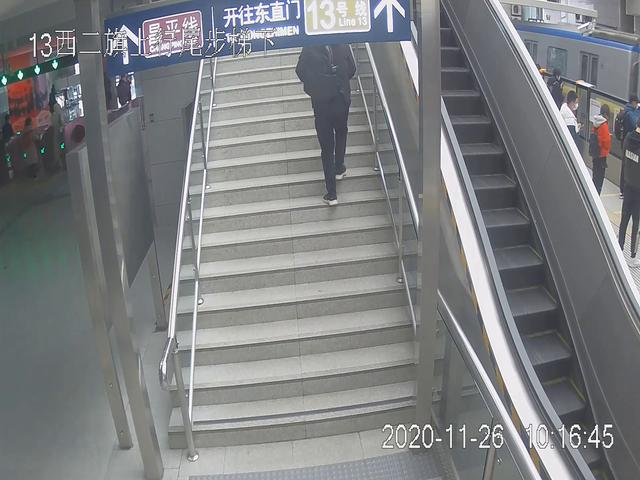person: (295, 33, 360, 205)
